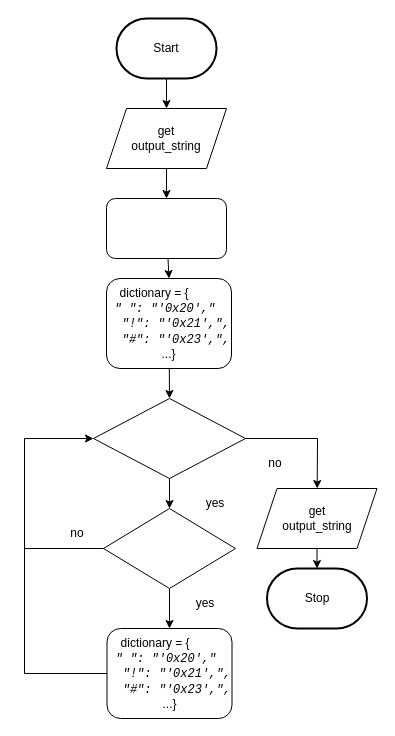
Some shapes in this 395 by 736 pixel diagram are drawn without their labels. Each missing label, with the centre of its shape:
for word_string in output_string: the point at 169,438
hex_string = "": the point at 166,228
if chatacter in dictionary.keys(): the point at 169,548
